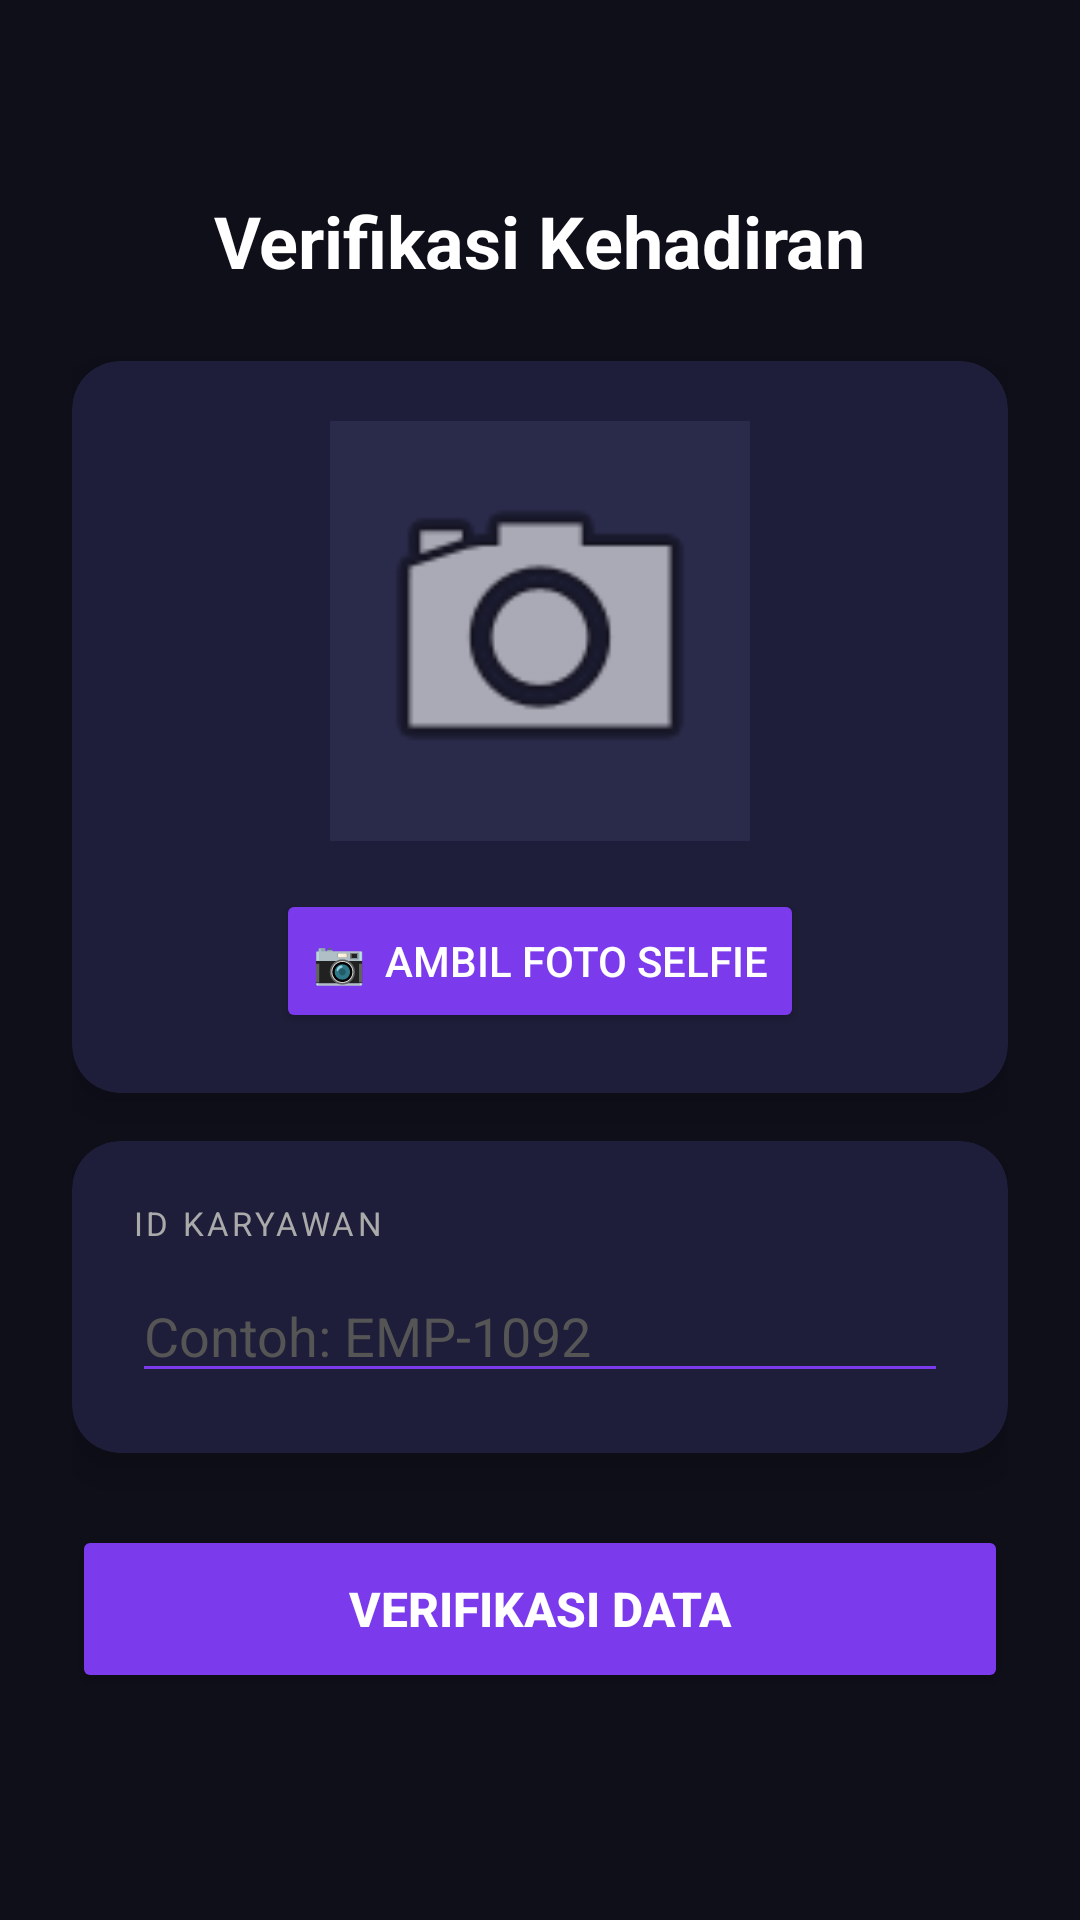

Where to tap for icons on this 1080×1920 app screen, as (x=x, y=y):
camera: (x=540, y=625)
